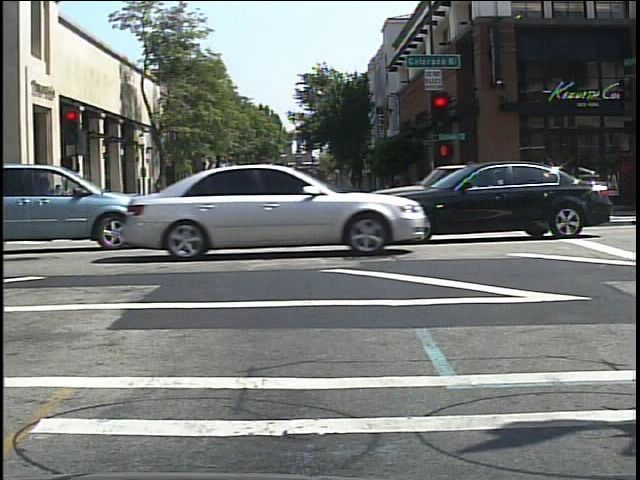car: (120, 167, 434, 252), (402, 168, 588, 244), (1, 160, 122, 242)
